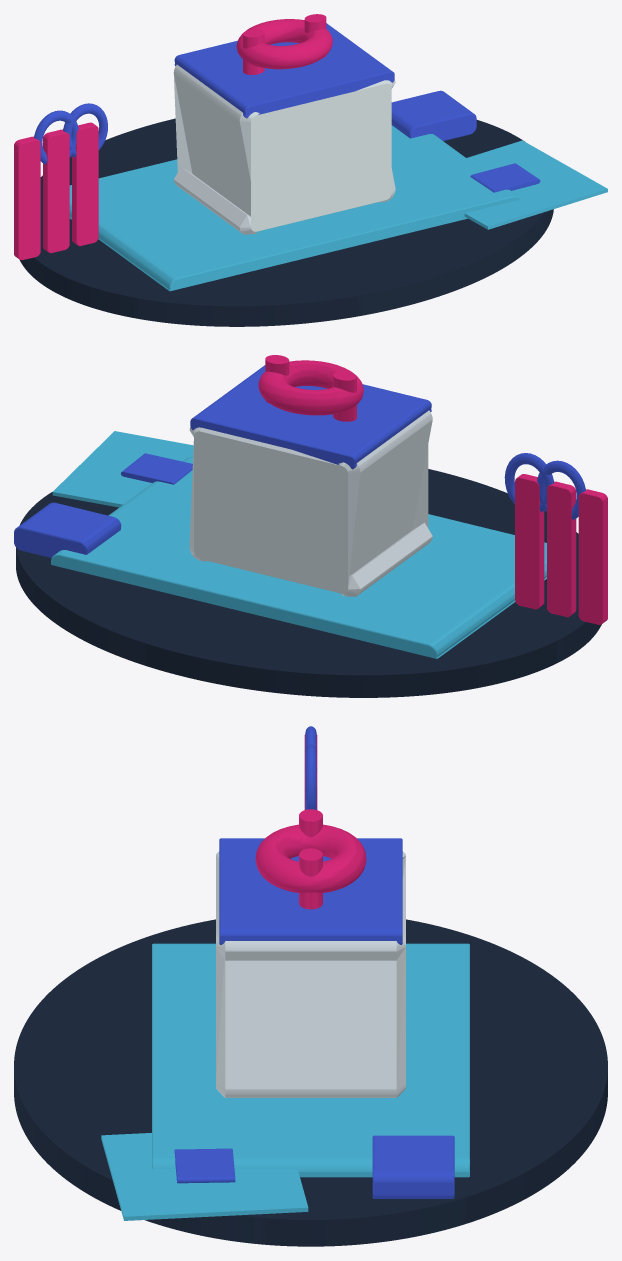
File: 0925_秦汉图鉴_带封泥的文书.glb
The picture shows the model from 3 angles, top to bottom: view 1: azimuth 30°, elevation 25°; view 2: azimuth 150°, elevation 25°; view 3: azimuth 270°, elevation 25°; orthographic projection. The views are drawn at different scales.
Parts seen in each view (by area): view 1: card_0925; view 2: card_0925; view 3: card_0925.
Boxes of the visible parts, left/top/right/bottom form: card_0925: left=14, top=14, right=607, bottom=326; card_0925: left=14, top=355, right=607, bottom=697; card_0925: left=14, top=726, right=607, bottom=1246.
Bounding box in the file's own units: 2.74 × 1 × 2.09.
